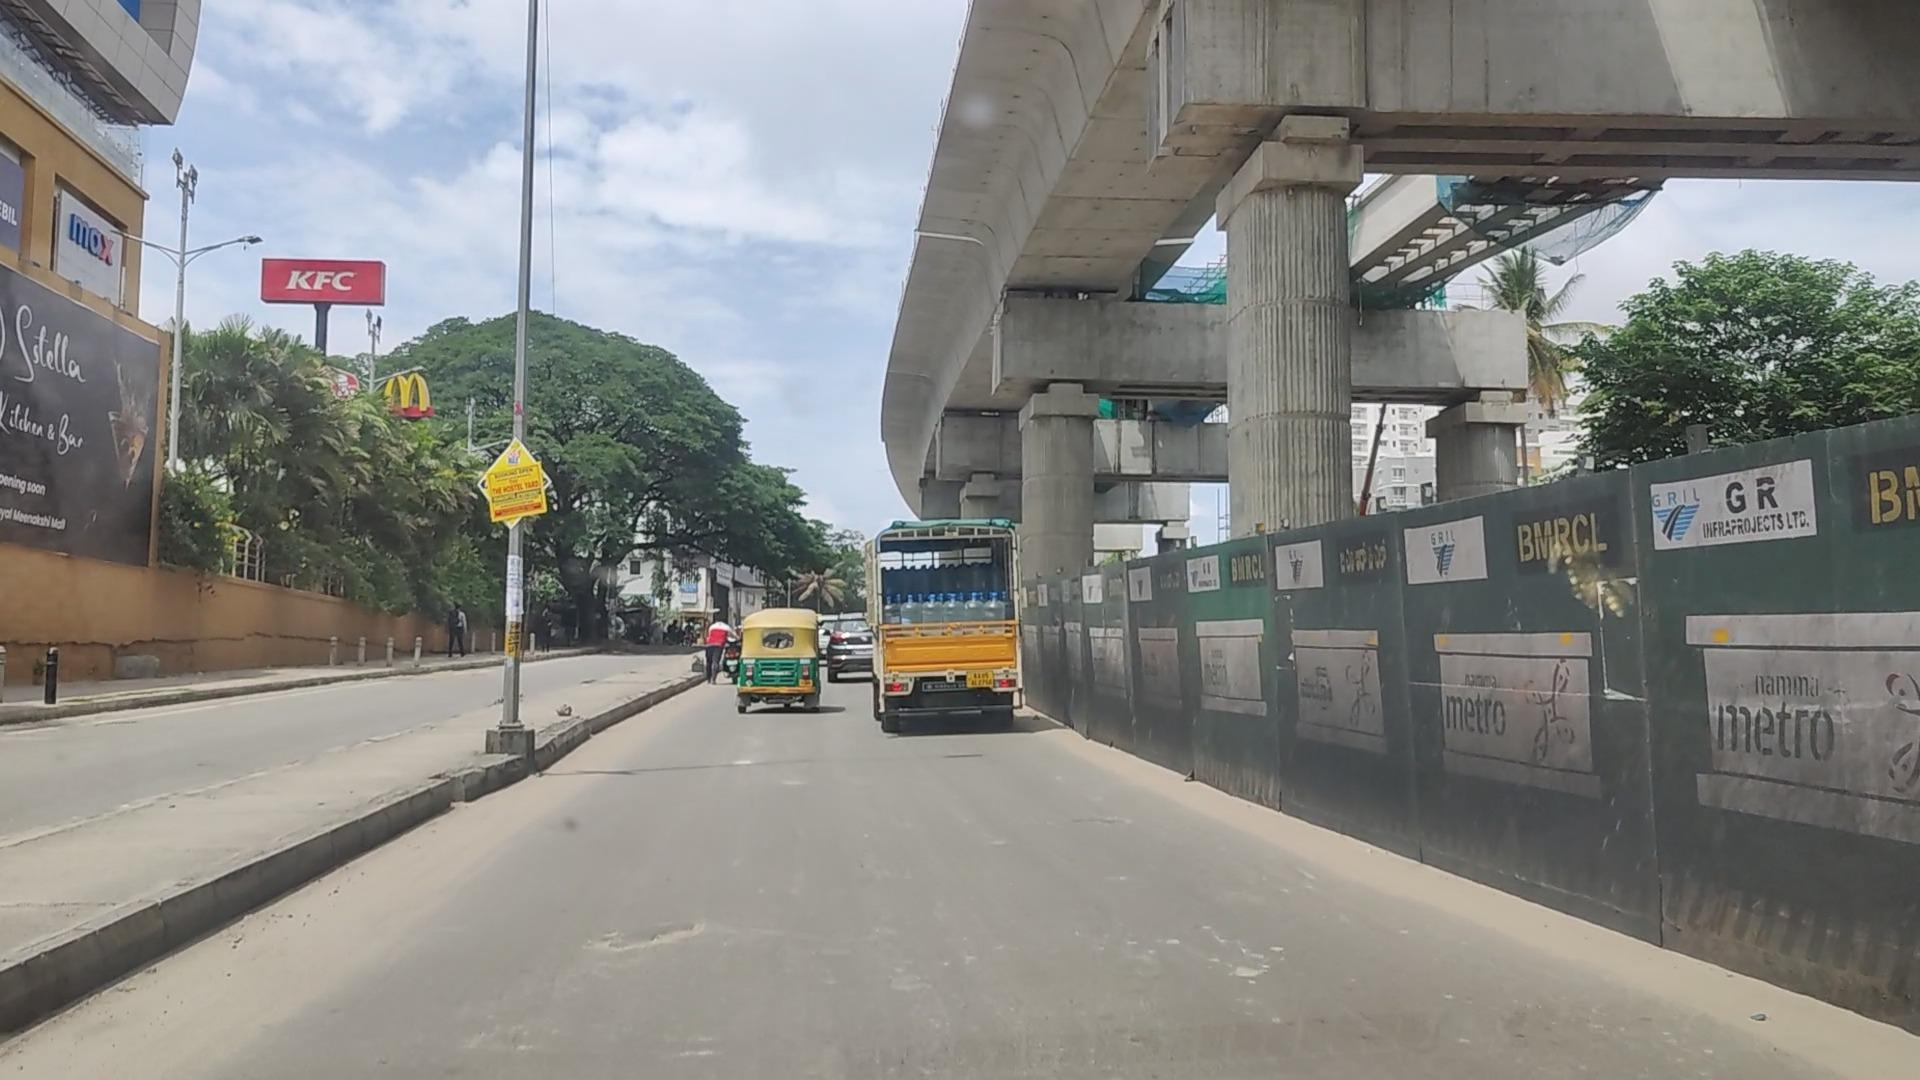HMV: (872, 513, 1027, 748)
LMV: (736, 607, 816, 717)
RoadDamages: (601, 918, 699, 960)
